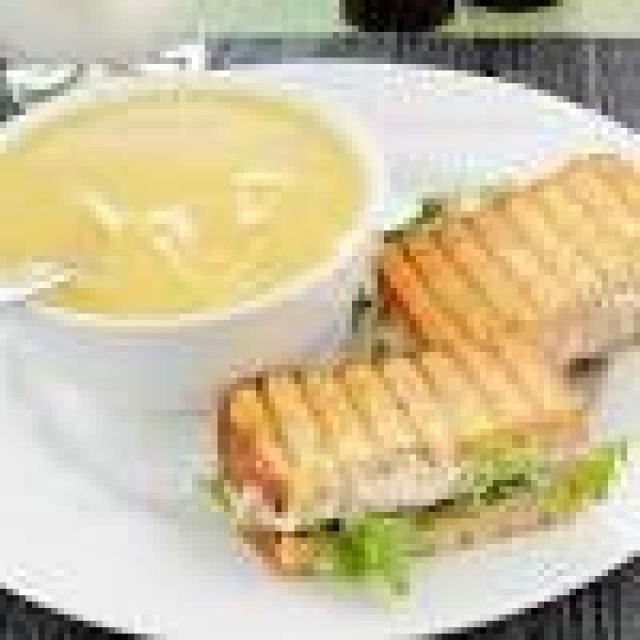Sandwich: (255, 128, 640, 623)
